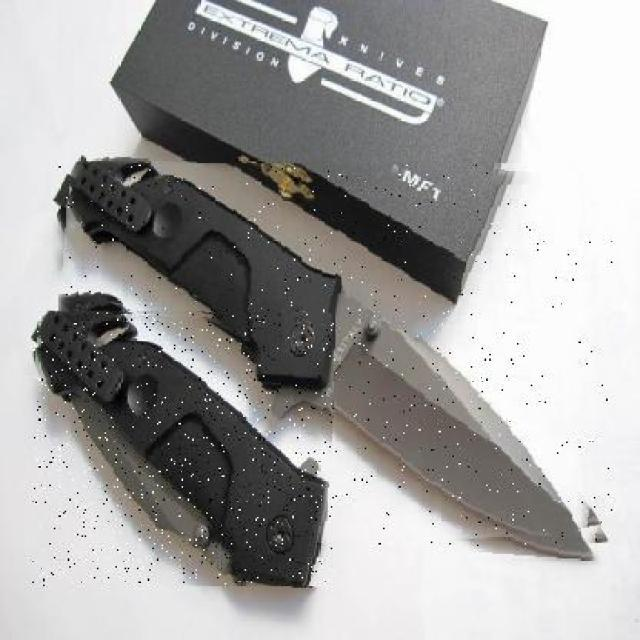knife: (52, 163, 614, 551), (32, 312, 336, 586)
